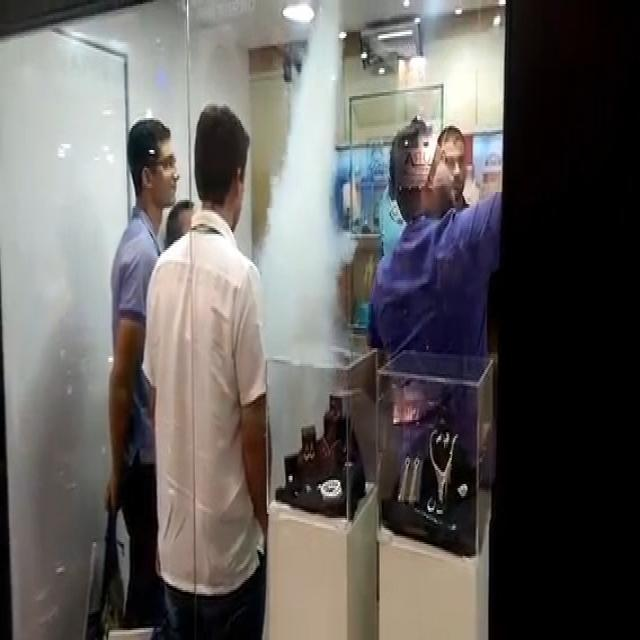Smoke: (257, 0, 359, 487)
